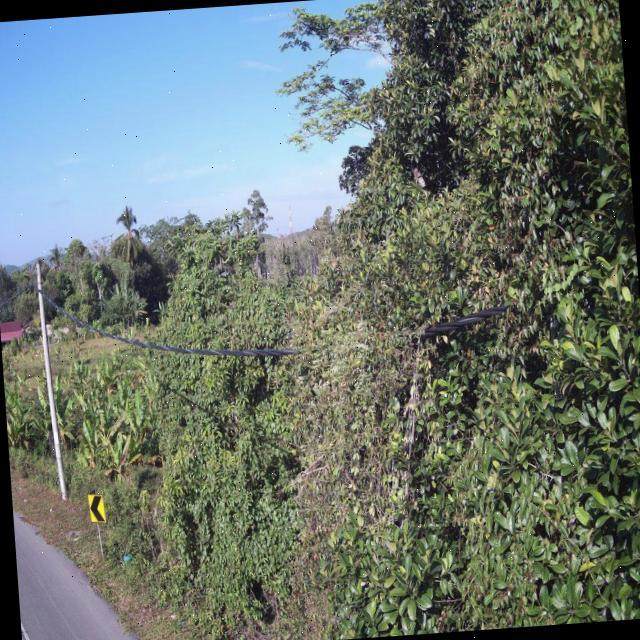critical vegetation: (278, 306, 442, 381)
